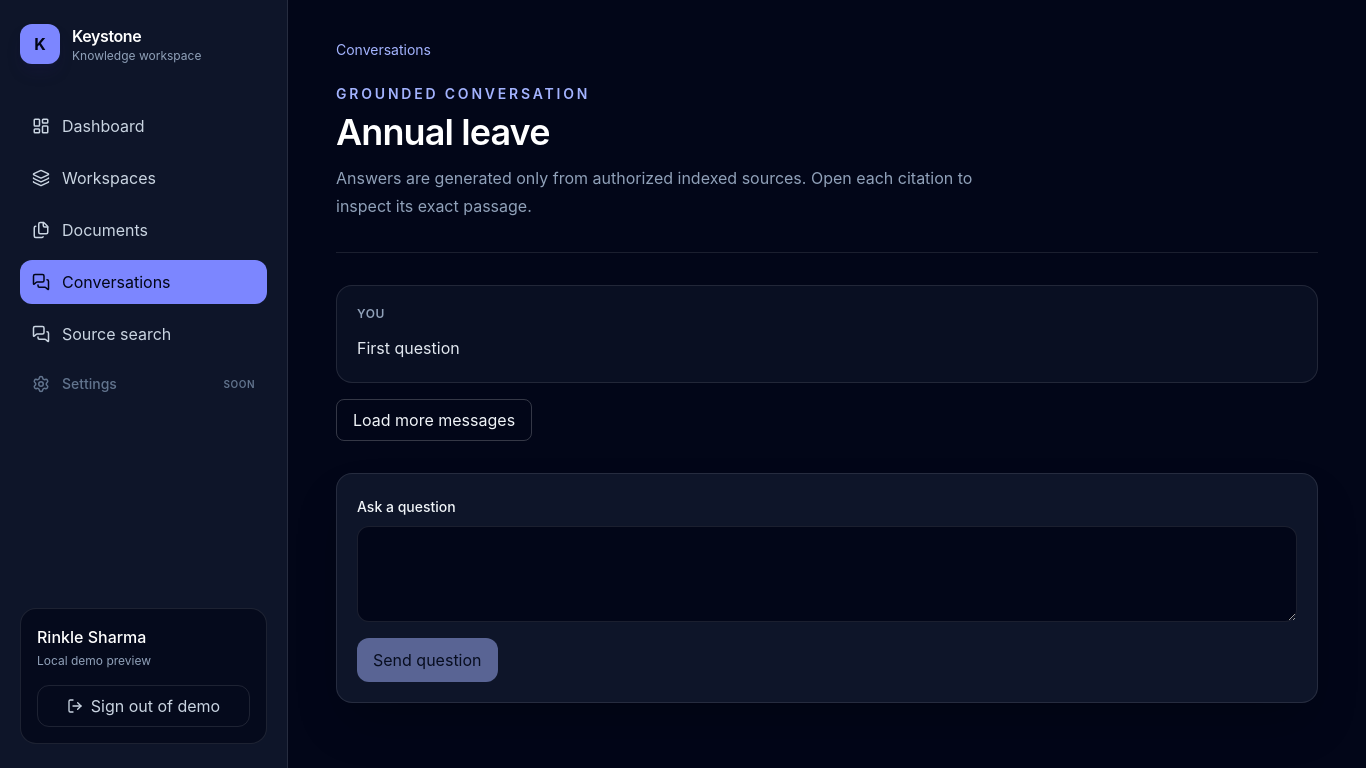
conversation routes › loads every available history page without duplicating messages
expect the text "First question" is shown: met, box [357, 338, 460, 358]
Click the button "Load more messages" at (434, 420), box [336, 399, 532, 441]
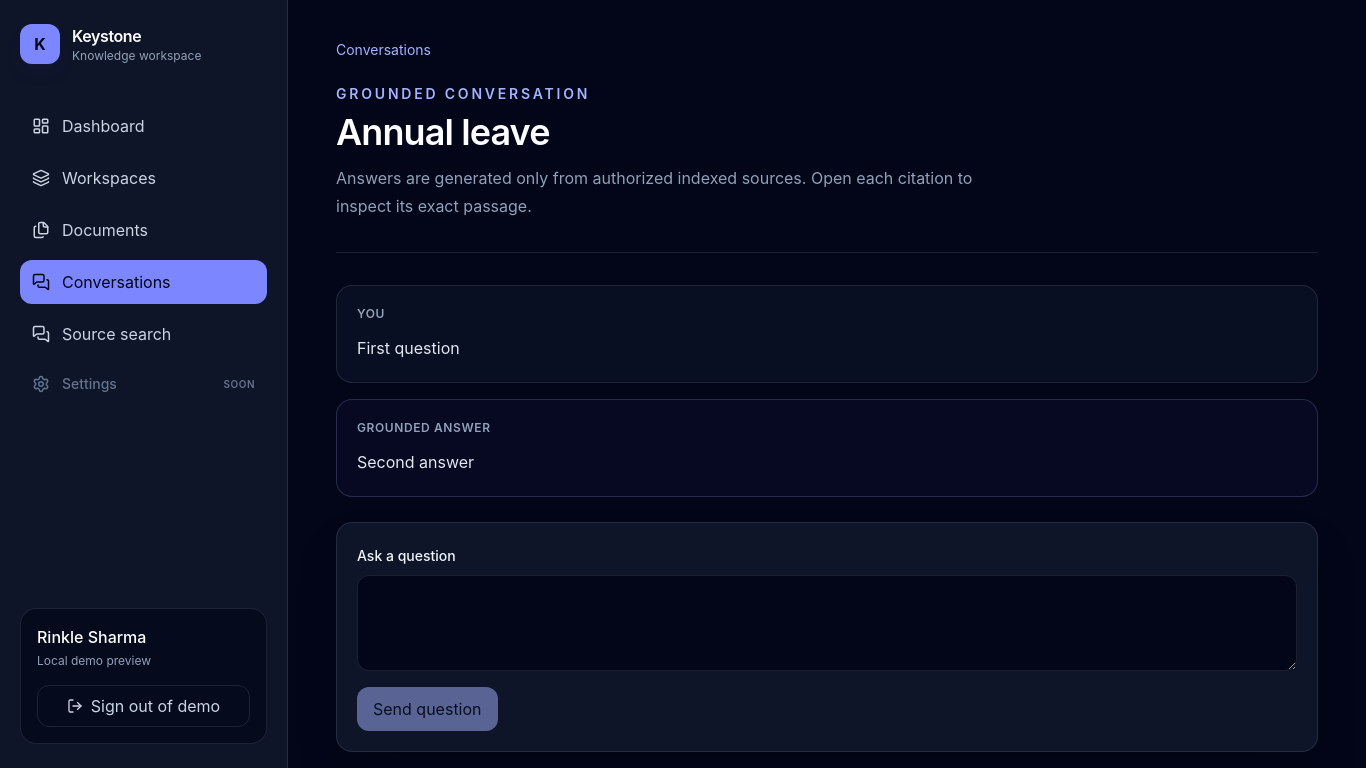
expect the text "Second answer" is shown: met, box [357, 452, 474, 472]
expect the text "First question" is shown once: met, box [357, 338, 460, 358]
